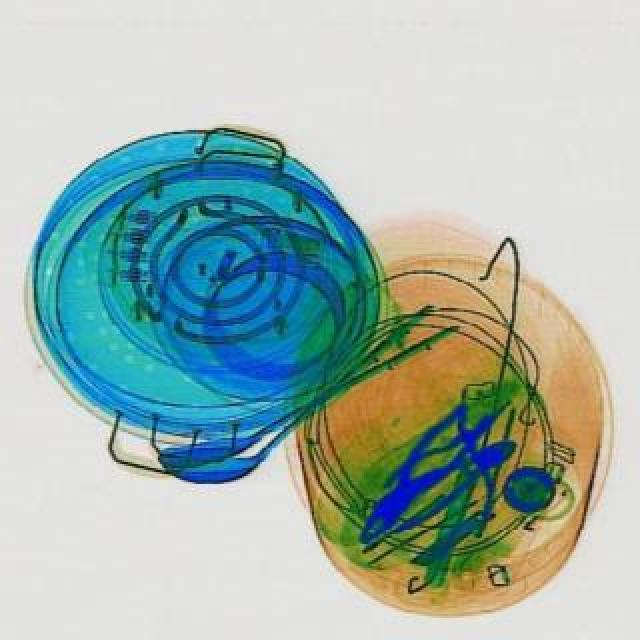wrench: (340, 394, 492, 554), (364, 424, 532, 540)
